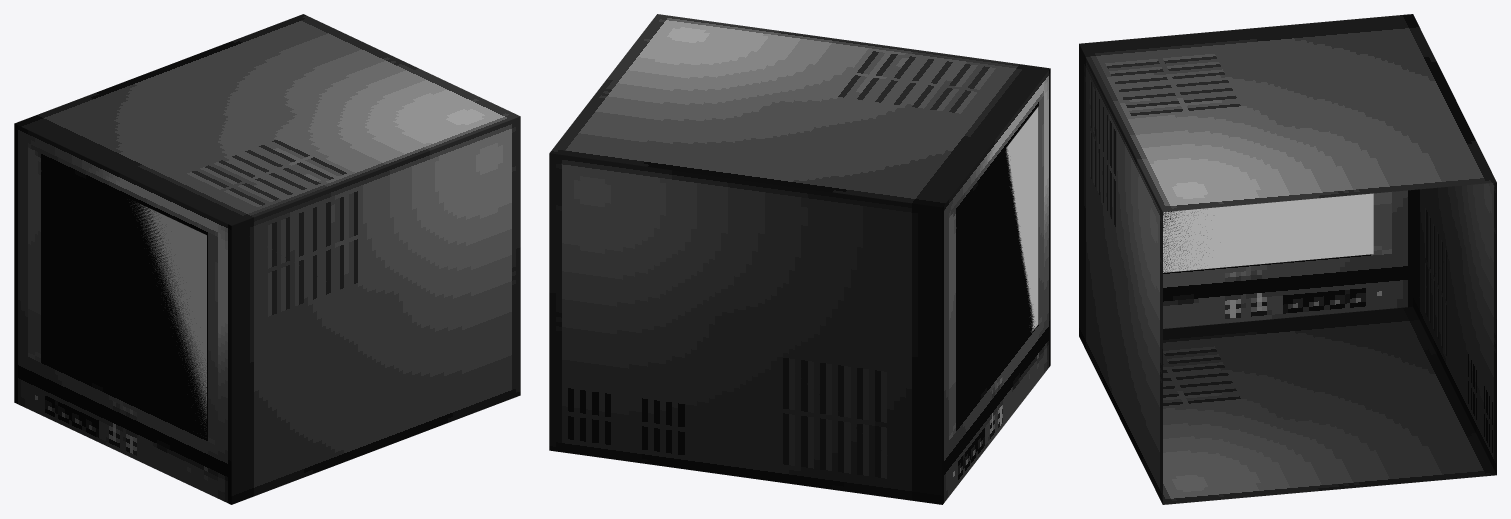
File: primary_080.glb
3 views of the same model, side by side, from view 1: azimuth 30°, elevation 25°; view 2: azimuth 150°, elevation 25°; view 3: azimuth 270°, elevation 25° (orthographic). The views are drawn at different scales.
Visible parts, largest first — view 1: Object; view 2: Object; view 3: Object.
Part boxes in pixels (<box>): Object: <box>14,14,520,504</box>; Object: <box>549,14,1050,504</box>; Object: <box>1079,14,1496,504</box>.
Bounding box in the file's own units: 0.9439 × 0.6502 × 0.8412.
Materials: 7 (7 with a texture image).
